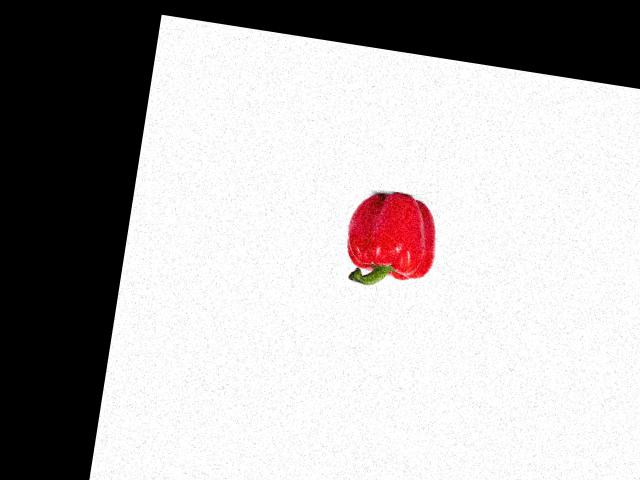bell_pepper: (337, 186, 448, 297)
